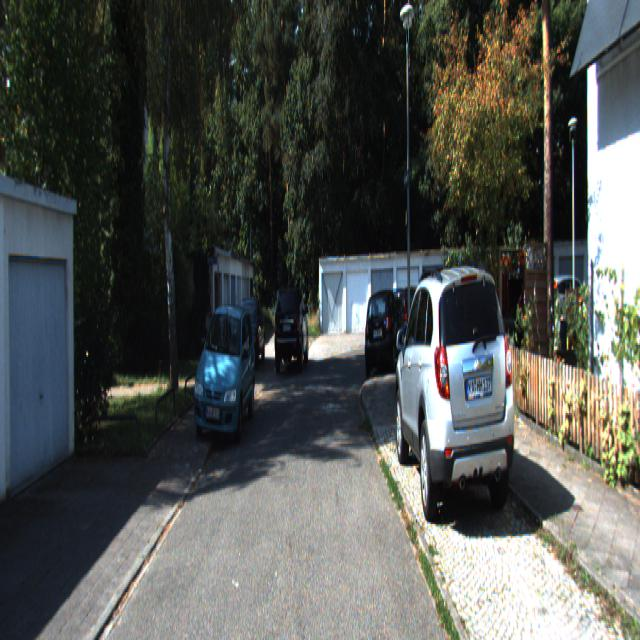Car: (393, 261, 518, 538), (193, 302, 255, 444), (364, 288, 401, 376), (274, 283, 309, 367), (233, 295, 266, 367)
